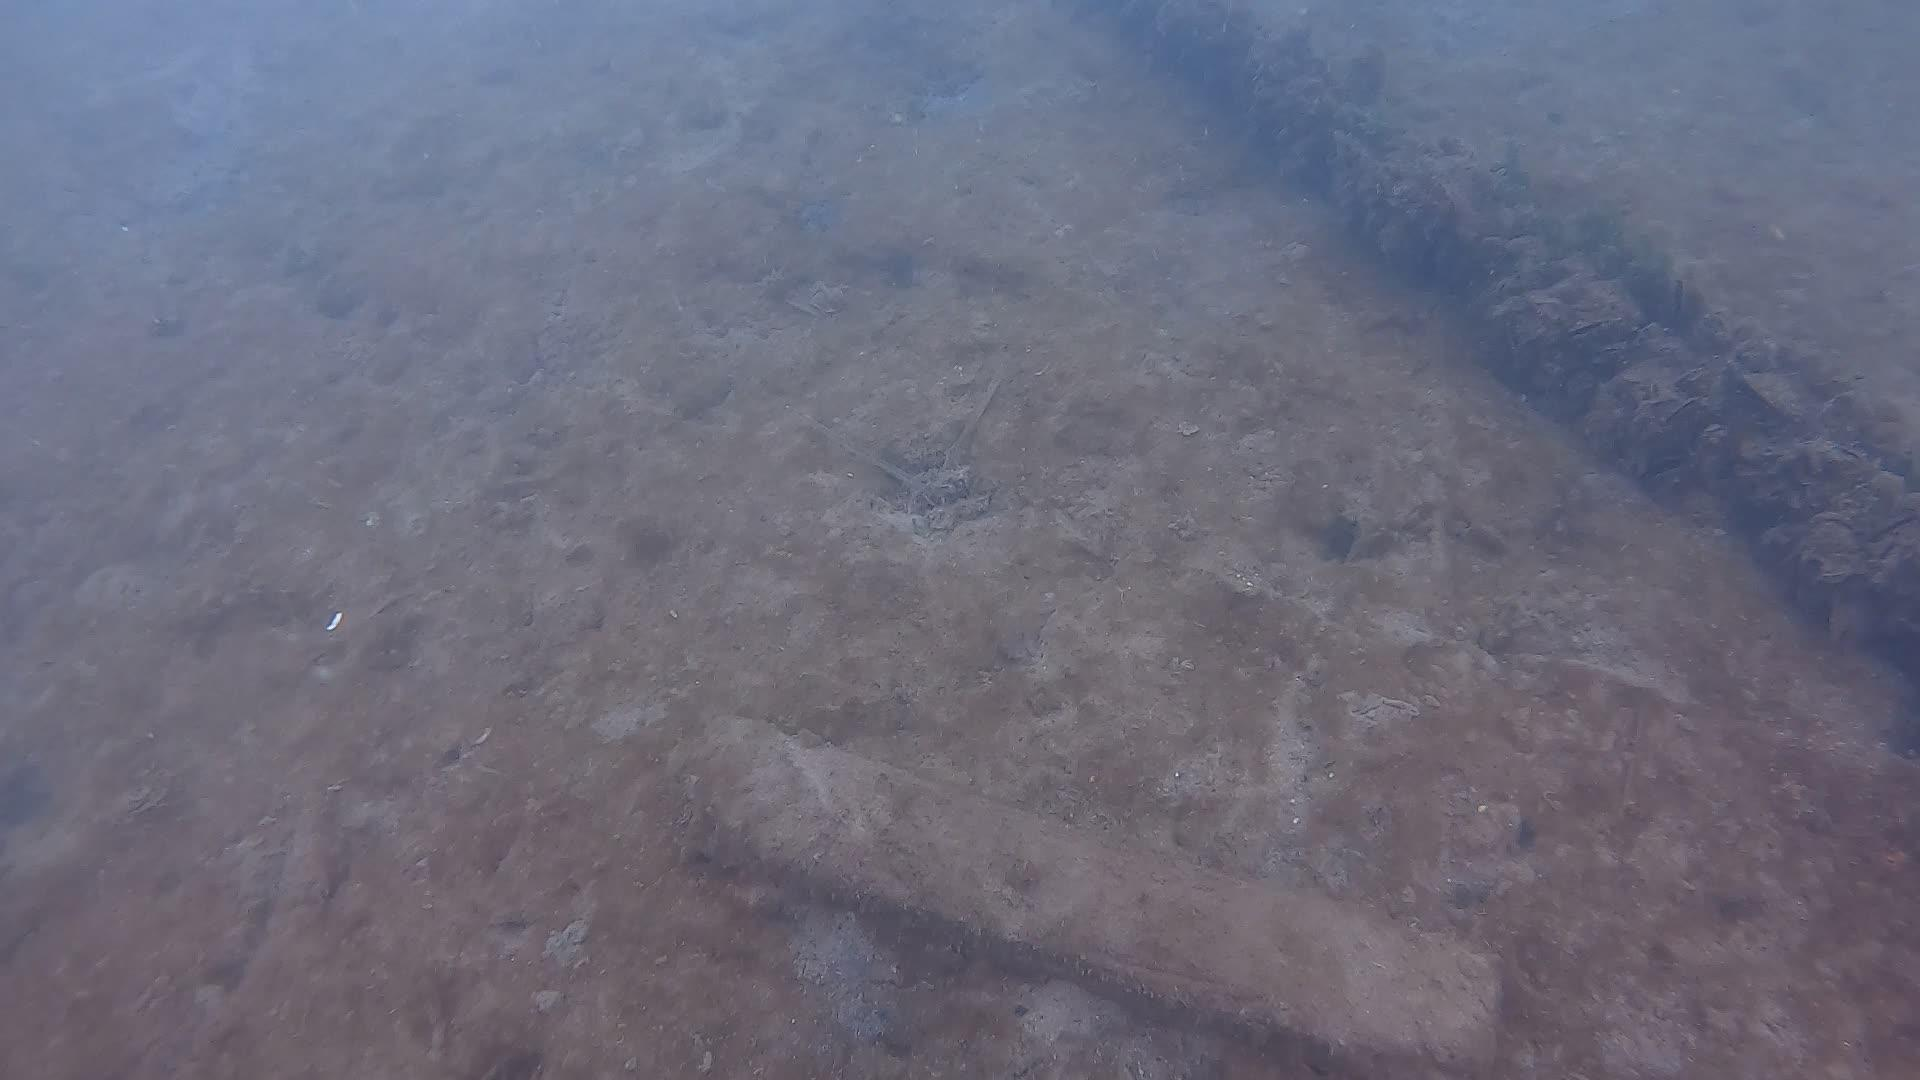wood: (659, 704, 1503, 1080)
